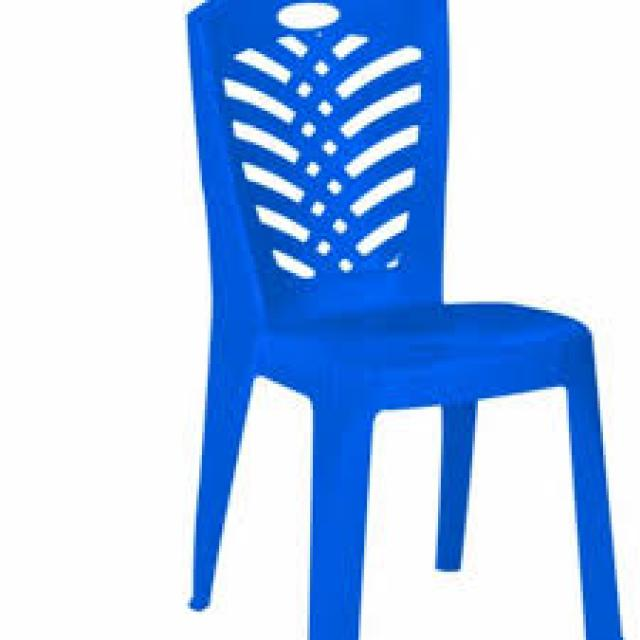chair: (167, 0, 625, 640)
